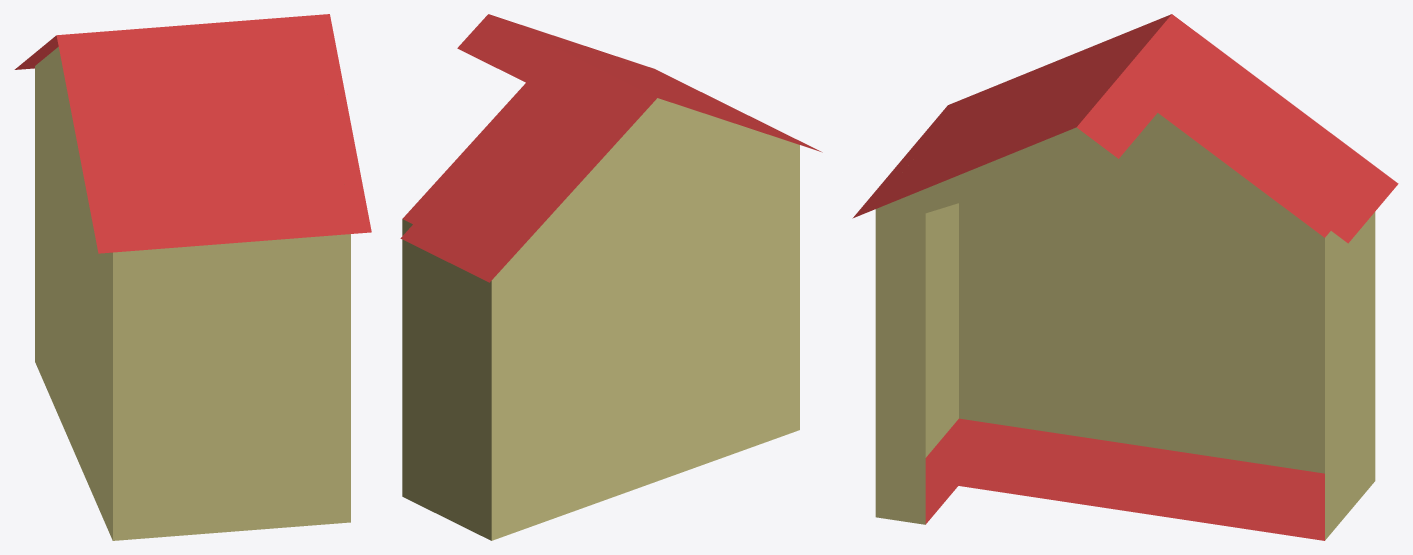
3 renders of one model, left to right at view 1: azimuth 30°, elevation 25°; view 2: azimuth 150°, elevation 25°; view 3: azimuth 270°, elevation 25°, orthographic. The views are drawn at different scales.
Bounding box in the file's own units: 9.91 × 14.9 × 12.9.
